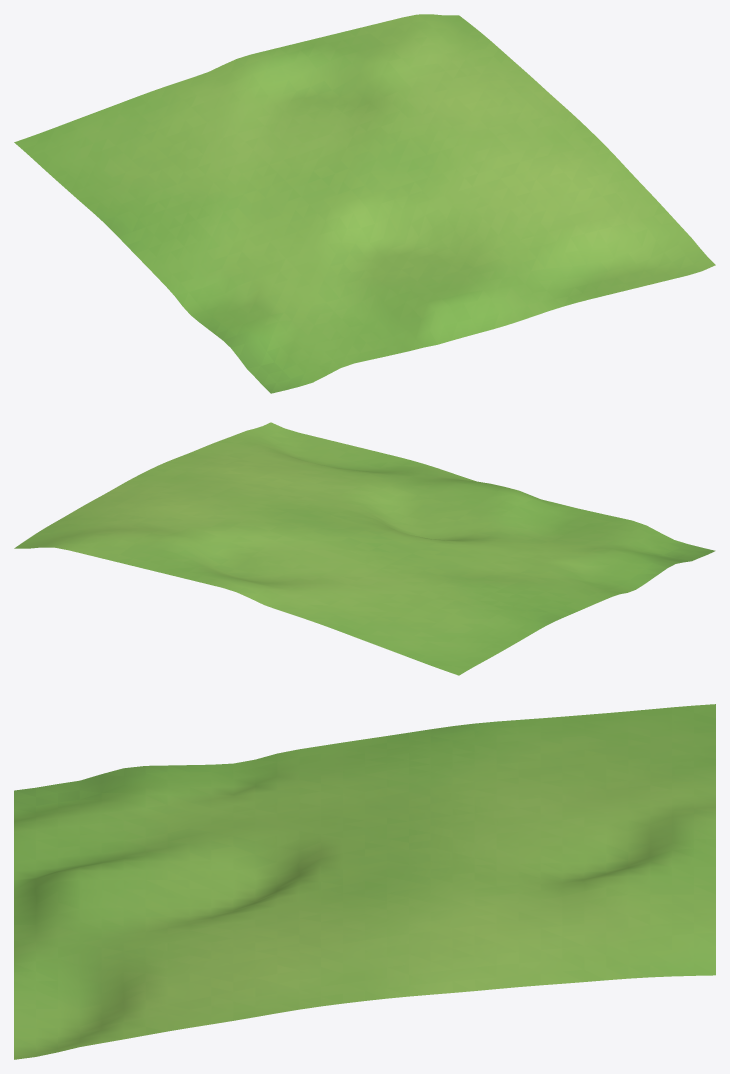
File: terrain_r4_c3.glb
The picture shows the model from 3 angles, top to bottom: view 1: azimuth 30°, elevation 25°; view 2: azimuth 150°, elevation 25°; view 3: azimuth 270°, elevation 25°; orthographic projection. The views are drawn at different scales.
Parts seen in each view (by area): view 1: terrain_r4_c3; view 2: terrain_r4_c3; view 3: terrain_r4_c3.
Part boxes in pixels (x1,y1,x2,y2): terrain_r4_c3: (14, 14, 715, 393); terrain_r4_c3: (14, 422, 715, 675); terrain_r4_c3: (14, 704, 715, 1059).
Bounding box in the file's own units: 128 × 25.7 × 128.
Materials: 1 (1 with a texture image).
